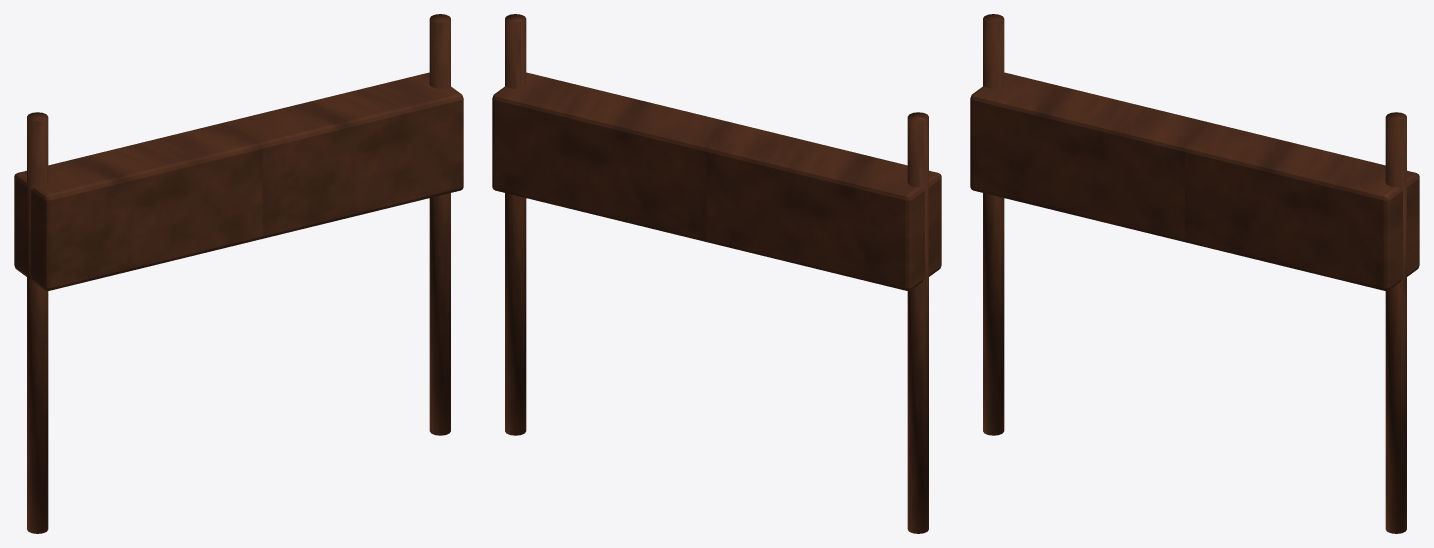
File: overhead.glb
3 renders of one model, left to right at view 1: azimuth 30°, elevation 25°; view 2: azimuth 150°, elevation 25°; view 3: azimuth 330°, elevation 25°, orthographic.
Parts seen in each view (by area): view 1: Collapsed_beam, Bent_metal_upright, Bent_metal_upright.001; view 2: Collapsed_beam, Bent_metal_upright, Bent_metal_upright.001; view 3: Collapsed_beam, Bent_metal_upright.001, Bent_metal_upright.
Part boxes in pixels (bbox=[...]): Collapsed_beam: bbox=[14, 72, 463, 290]; Bent_metal_upright: bbox=[27, 112, 48, 533]; Bent_metal_upright.001: bbox=[429, 14, 450, 435]; Collapsed_beam: bbox=[492, 72, 941, 290]; Bent_metal_upright: bbox=[907, 112, 928, 533]; Bent_metal_upright.001: bbox=[505, 14, 526, 435]; Collapsed_beam: bbox=[970, 72, 1419, 290]; Bent_metal_upright.001: bbox=[1385, 112, 1406, 533]; Bent_metal_upright: bbox=[983, 14, 1004, 435].
Bounding box in the file's own units: 2.51 × 2.35 × 0.35.
1 material, 1 textured.
